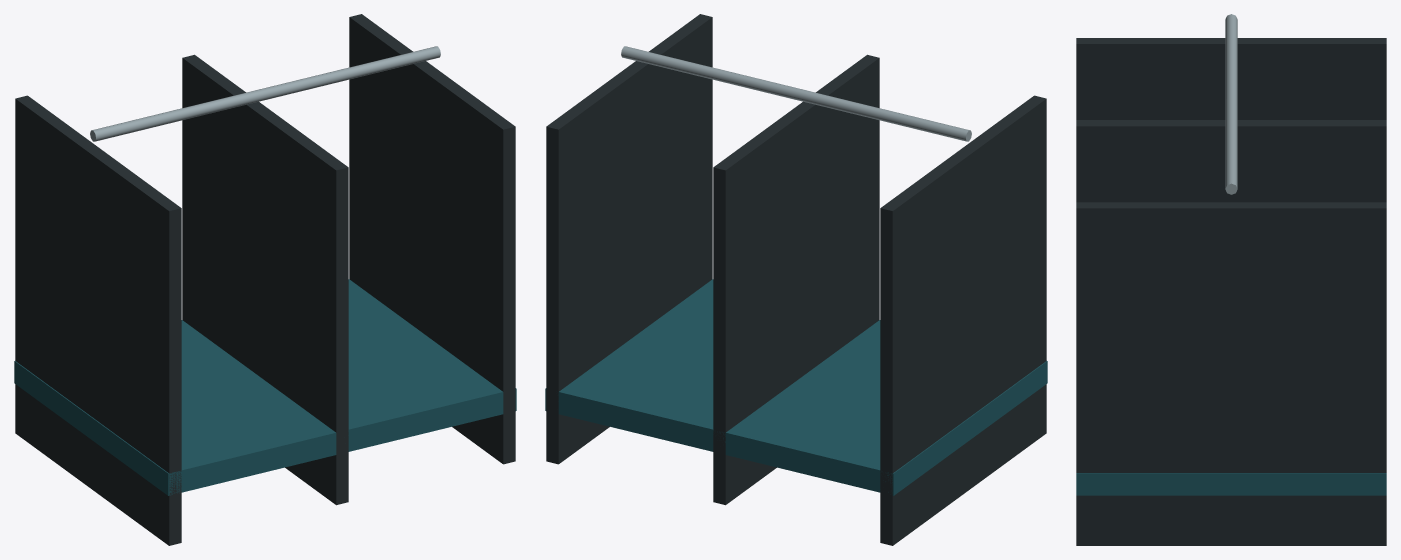
The model's file is SM_StationQueueRail.fbx.
3 renders of one model, left to right at view 1: azimuth 30°, elevation 25°; view 2: azimuth 150°, elevation 25°; view 3: azimuth 270°, elevation 25°, orthographic.
Parts seen in each view (by area): view 1: SM_StationQueueRail_UEExport; view 2: SM_StationQueueRail_UEExport; view 3: SM_StationQueueRail_UEExport.
Boxes of the visible parts, x1,y1,x2,y2 form: SM_StationQueueRail_UEExport: [14, 14, 516, 545]; SM_StationQueueRail_UEExport: [545, 14, 1047, 545]; SM_StationQueueRail_UEExport: [1076, 14, 1386, 545].
Bounding box in the file's own units: 196 × 150 × 193.
